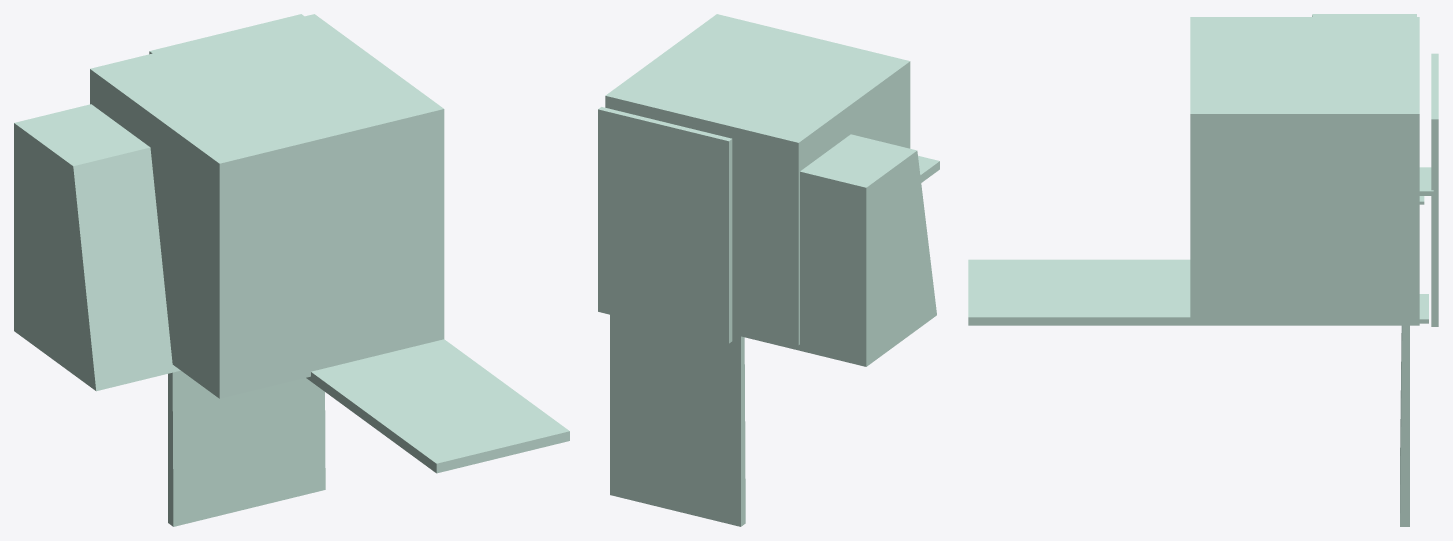
The picture shows the model from 3 angles, left to right: view 1: azimuth 30°, elevation 25°; view 2: azimuth 150°, elevation 25°; view 3: azimuth 270°, elevation 25°; orthographic projection. The views are drawn at different scales.
Visible parts, largest first — view 1: Renderer Node; view 2: Renderer Node; view 3: Renderer Node.
Boxes of the visible parts, x1,y1,x2,y2 form: Renderer Node: [14, 14, 569, 526]; Renderer Node: [598, 14, 939, 526]; Renderer Node: [968, 14, 1438, 526].
Size of the model in its own units: 1.01 by 1.49 by 1.54.
